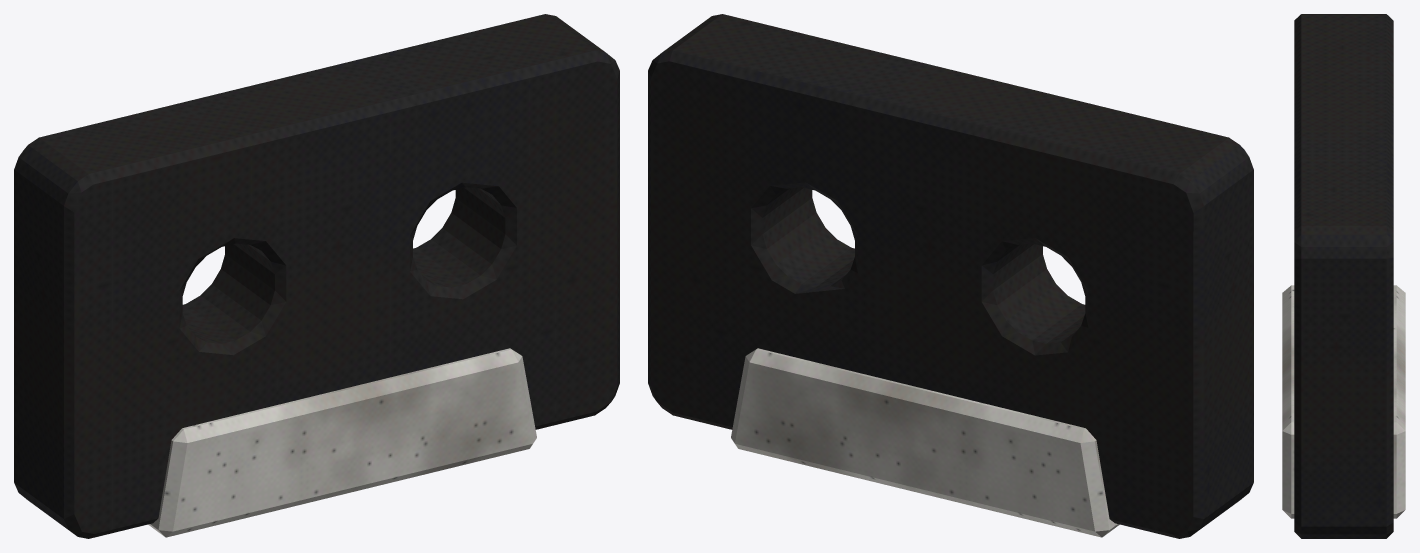
The model's file is Cassette.fbx.
The picture shows the model from 3 angles, left to right: view 1: azimuth 30°, elevation 25°; view 2: azimuth 150°, elevation 25°; view 3: azimuth 270°, elevation 25°; orthographic projection. The views are drawn at different scales.
Visible parts, largest first — view 1: Cassette.001, Cassette; view 2: Cassette.001, Cassette; view 3: Cassette.001, Cassette.
Part boxes in pixels (<box>): Cassette.001: <box>14,14,619,538</box>; Cassette: <box>148,348,536,537</box>; Cassette.001: <box>648,14,1253,538</box>; Cassette: <box>731,348,1119,537</box>; Cassette.001: <box>1294,14,1393,538</box>; Cassette: <box>1282,285,1405,518</box>.
Size of the model in its own units: 0.185 by 0.1198 by 0.0415.
2 materials, 2 textured.
